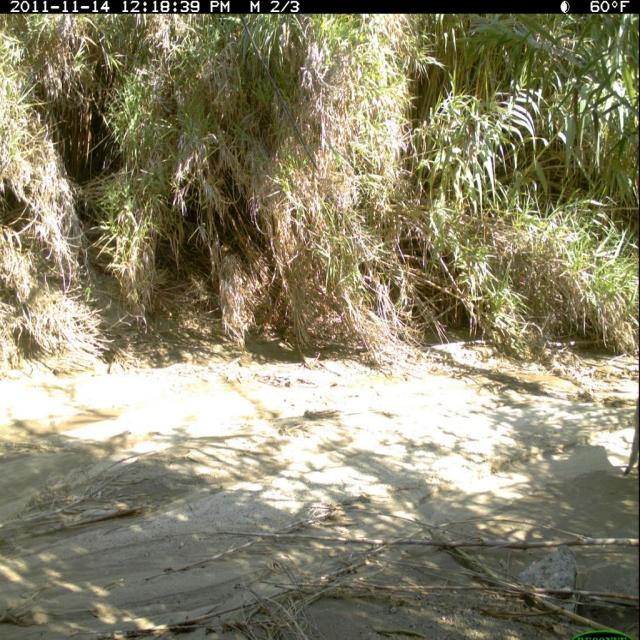coyote: (623, 389, 640, 486)
